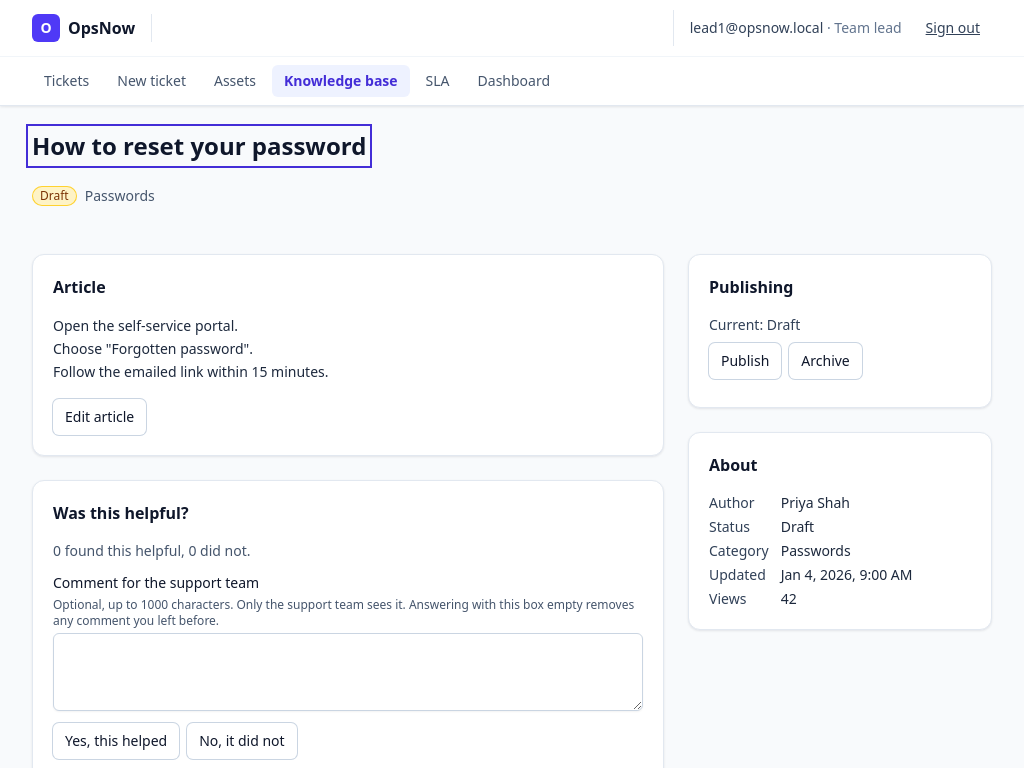
Test: article detail — failure states › explains a 403 from a status change a SupportAgent should never have been offered
The image size is (1024, 768).
Expected: the heading "How to reset your password" is shown, [32,130,366,162]
Click the button "Publish": (745, 361) [709,343,781,379]
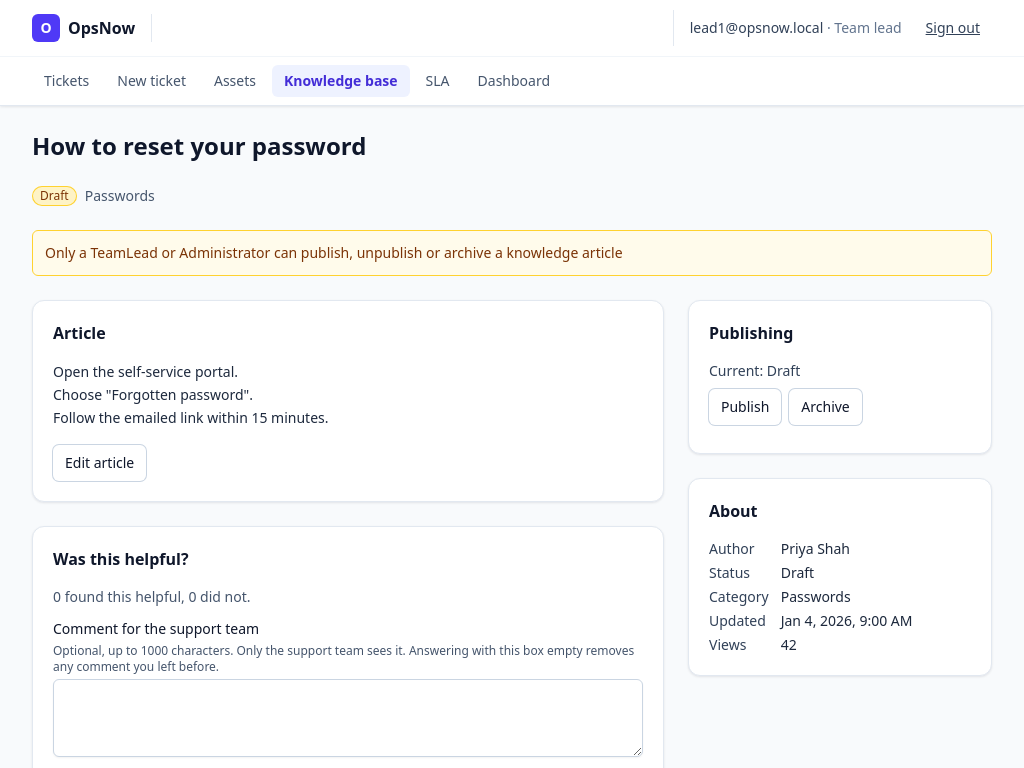
Now the text "Only a TeamLead or Administrator can publish" is shown, box [45,243,622,262]
